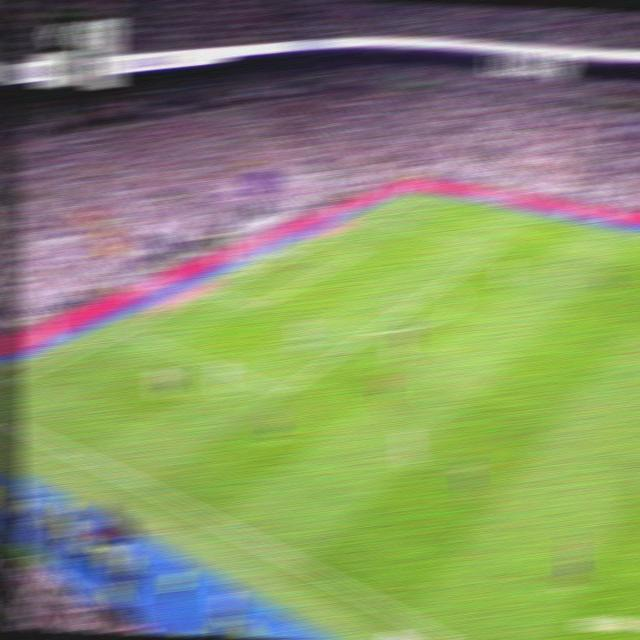bigarea_bottom_inner: (272, 382, 292, 401)
bigarea_bottom_outter: (115, 324, 135, 338)
bigarea_top_inner: (487, 242, 501, 252)
bigarea_top_outter: (365, 212, 381, 222)
bottom_arc_area_intersection: (362, 322, 382, 337)
corner: (413, 188, 431, 198)
smallarea_bottom_inner: (248, 297, 265, 313)
smallarea_bottom_outter: (205, 285, 222, 296)
smallarea_top_inner: (351, 248, 366, 255)
top_arc_area_intersection: (438, 274, 454, 286)
